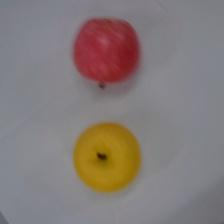red: (72, 16, 141, 92)
yellow: (71, 120, 142, 196)
